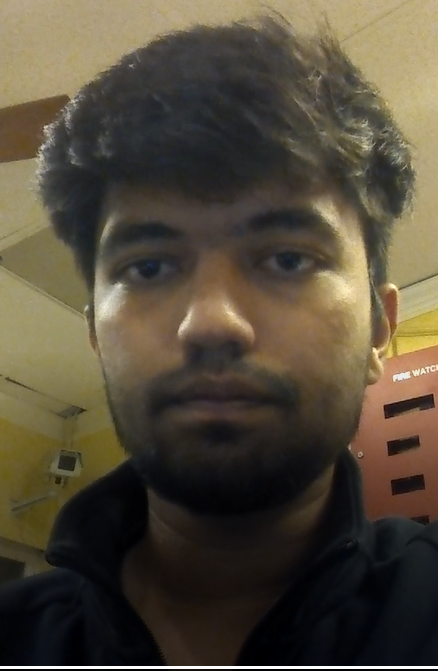Not Sleeping: (97, 208, 343, 308)
